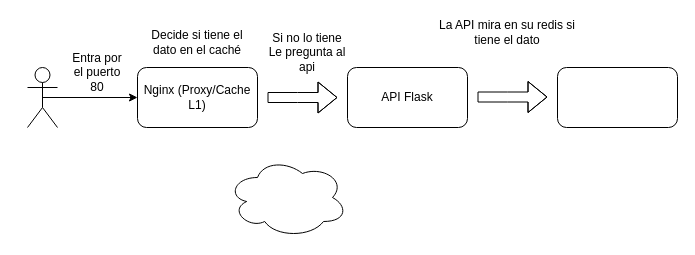
This 695x255 diagram has some shape labels left out. Here are the shapes that lost their labels. From the top down, the box of each, then its label:
(26, 66, 58, 128): CLIENTE
(556, 66, 678, 128): Redis
